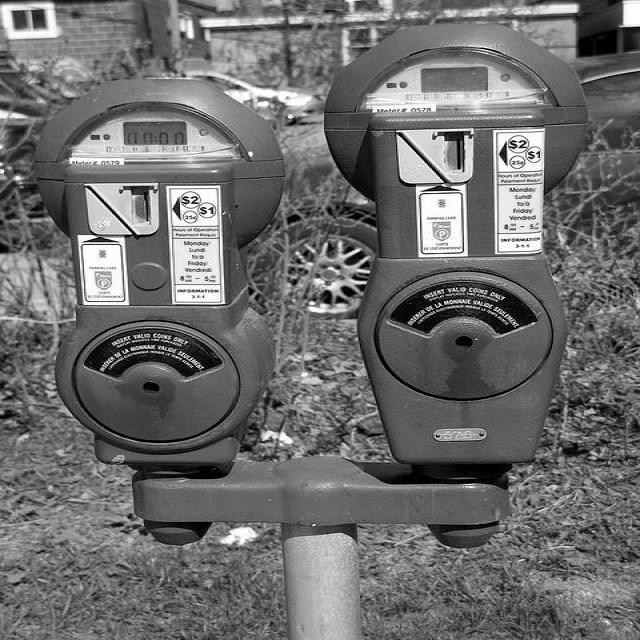vehicle: (248, 56, 639, 316), (147, 70, 327, 123), (0, 93, 70, 220)
